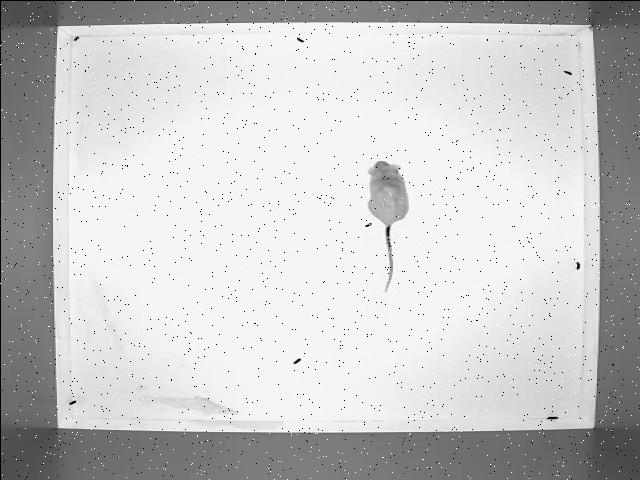Tikus: (363, 157, 411, 295)
